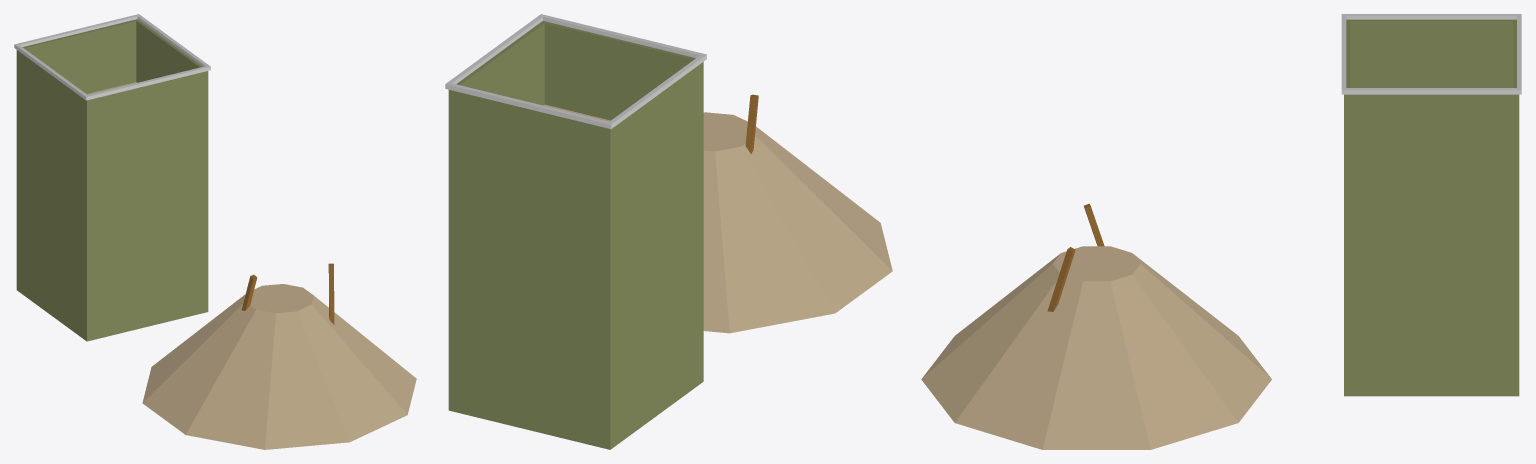
File: SM_ObraHescoAbierto_v2_10m_LOD0.fbx
3 views of the same model, side by side, from view 1: azimuth 30°, elevation 25°; view 2: azimuth 150°, elevation 25°; view 3: azimuth 270°, elevation 25° (orthographic). The views are drawn at different scales.
Parts seen in each view (by area): view 1: SM_obra_curso_v25_LOD0; view 2: SM_obra_curso_v25_LOD0; view 3: SM_obra_curso_v25_LOD0.
Part boxes in pixels (x1,y1,x2,y2): SM_obra_curso_v25_LOD0: [14, 14, 416, 449]; SM_obra_curso_v25_LOD0: [445, 14, 892, 449]; SM_obra_curso_v25_LOD0: [921, 14, 1521, 449].
Bounding box in the file's own units: 2.09 × 2.14 × 3.76.
